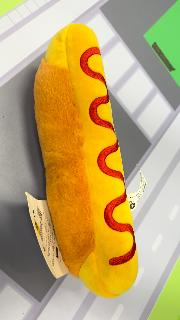hotdog: (33, 23, 140, 299)
